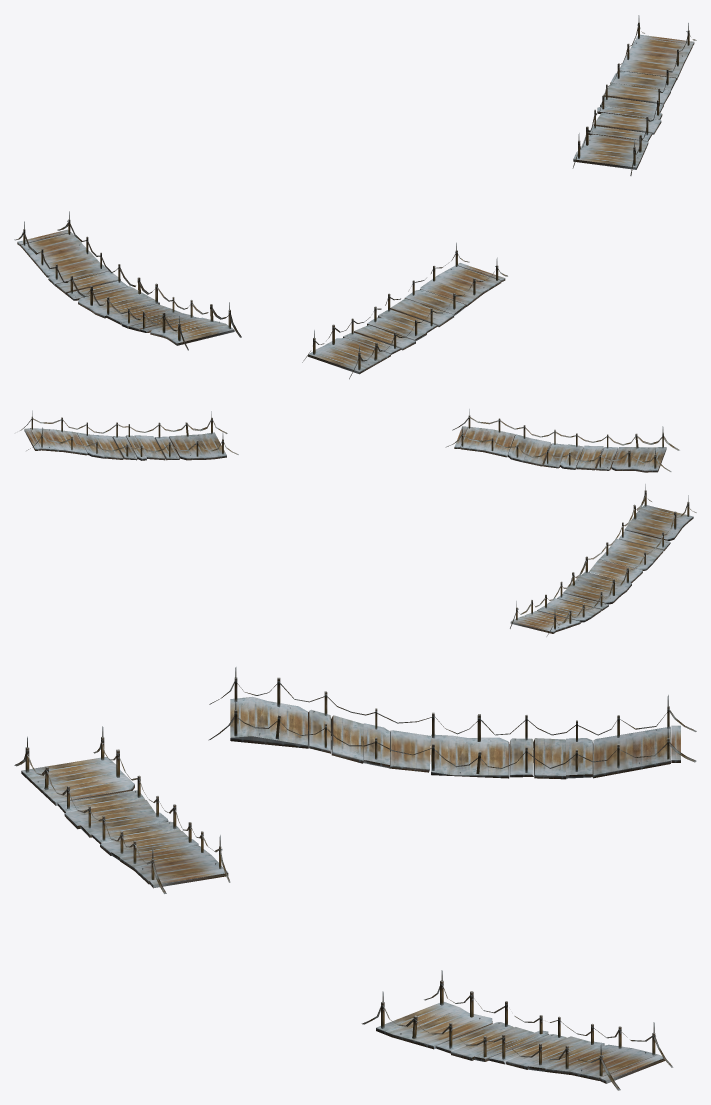
Rendered from rzjd_diaoqiao3.FBX.
The picture shows the model from 3 angles, top to bottom: view 1: azimuth 30°, elevation 25°; view 2: azimuth 150°, elevation 25°; view 3: azimuth 270°, elevation 25°; orthographic projection. The views are drawn at different scales.
Visible parts, largest first — view 1: rzjd_diaoqiao3; view 2: rzjd_diaoqiao3; view 3: rzjd_diaoqiao3.
Part boxes in pixels (bbox=[...]): rzjd_diaoqiao3: bbox=[14, 15, 696, 379]; rzjd_diaoqiao3: bbox=[20, 409, 696, 636]; rzjd_diaoqiao3: bbox=[14, 667, 696, 1090].
Bounding box in the file's own units: 4608 × 659 × 2971.
